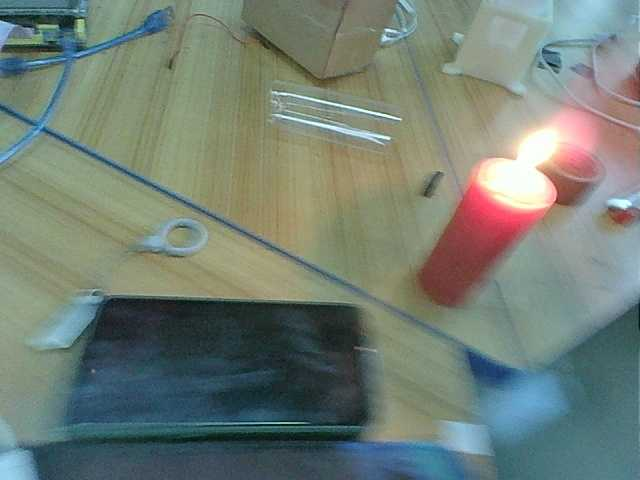candle: (418, 188, 537, 300)
fire: (478, 123, 562, 200)
